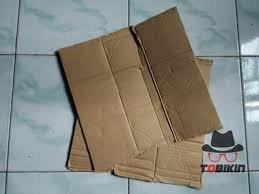kardus: (60, 8, 212, 188)
